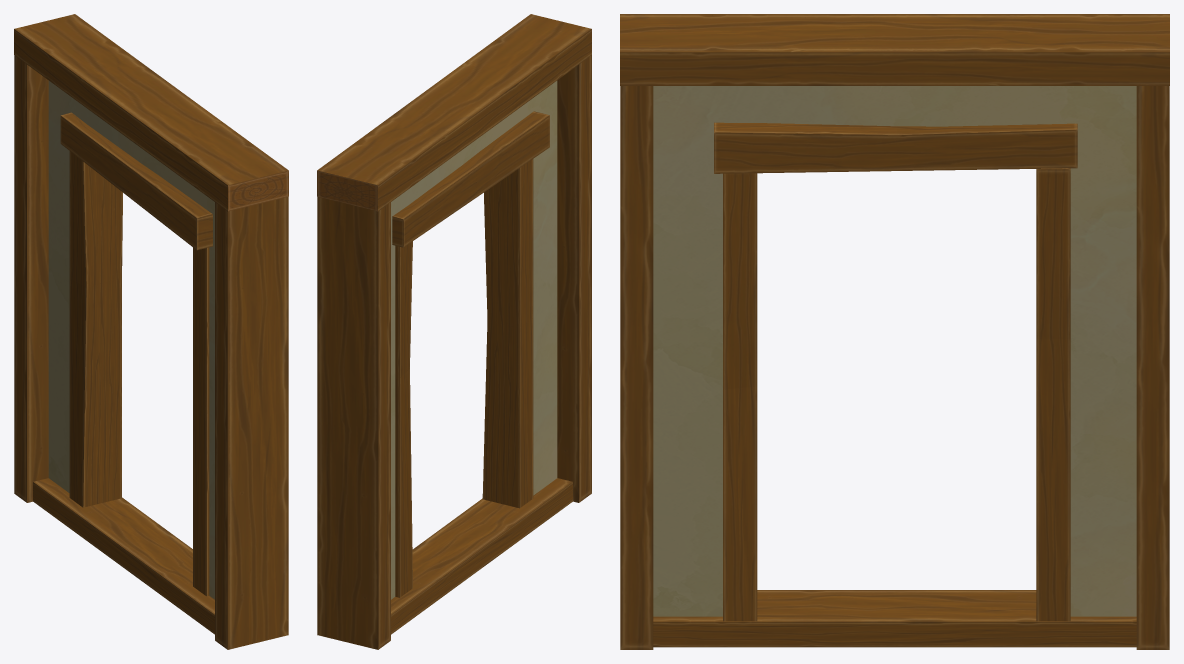
Rendered from SM_House_Roof_01_WallMiddle_A_06.fbx.
3 renders of one model, left to right at view 1: azimuth 30°, elevation 25°; view 2: azimuth 150°, elevation 25°; view 3: azimuth 270°, elevation 25°, orthographic. The views are drawn at different scales.
Visible parts, largest first — view 1: SM_House_Roof_01_WallMiddle_A_06; view 2: SM_House_Roof_01_WallMiddle_A_06; view 3: SM_House_Roof_01_WallMiddle_A_06.
Boxes of the visible parts, box(x1,y1,x2,y2) form: SM_House_Roof_01_WallMiddle_A_06: box(14, 14, 288, 649); SM_House_Roof_01_WallMiddle_A_06: box(317, 14, 591, 649); SM_House_Roof_01_WallMiddle_A_06: box(620, 14, 1169, 649).
Size of the model in its own units: 0.4323 by 3 by 2.5.
